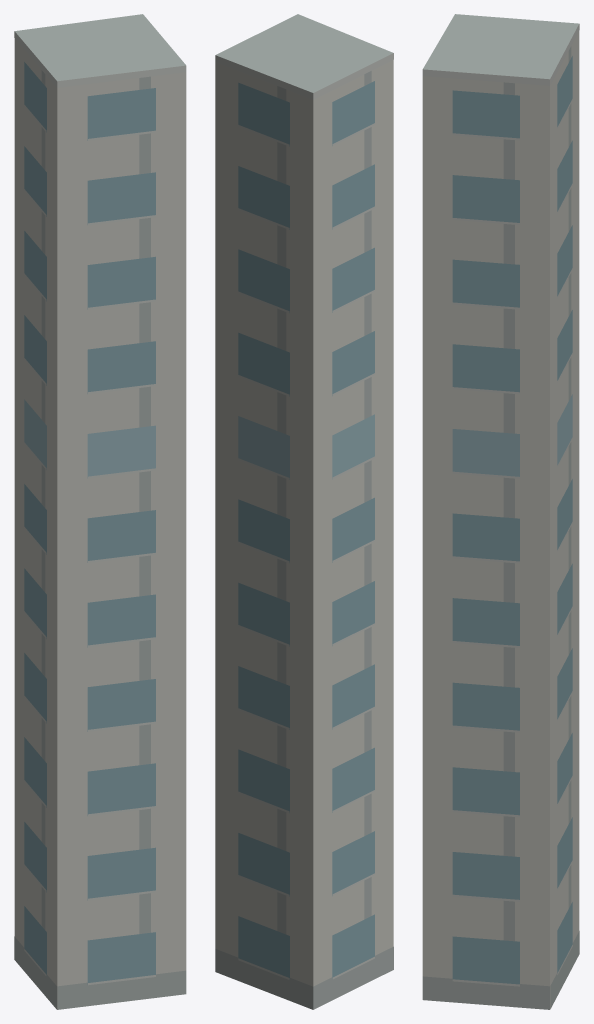
Rendered from survey-upis-32734151.glb.
3 renders of one model, left to right at view 1: azimuth 30°, elevation 25°; view 2: azimuth 150°, elevation 25°; view 3: azimuth 270°, elevation 25°, orthographic.
Parts seen in each view (by area): view 1: survey-upis-32734151.tmp; view 2: survey-upis-32734151.tmp; view 3: survey-upis-32734151.tmp.
Part boxes in pixels (bbox=[...]): survey-upis-32734151.tmp: bbox=[14, 14, 186, 1009]; survey-upis-32734151.tmp: bbox=[215, 14, 393, 1009]; survey-upis-32734151.tmp: bbox=[422, 14, 579, 1009].
Bounding box in the file's own units: 5.05 × 33.55 × 5.13.
